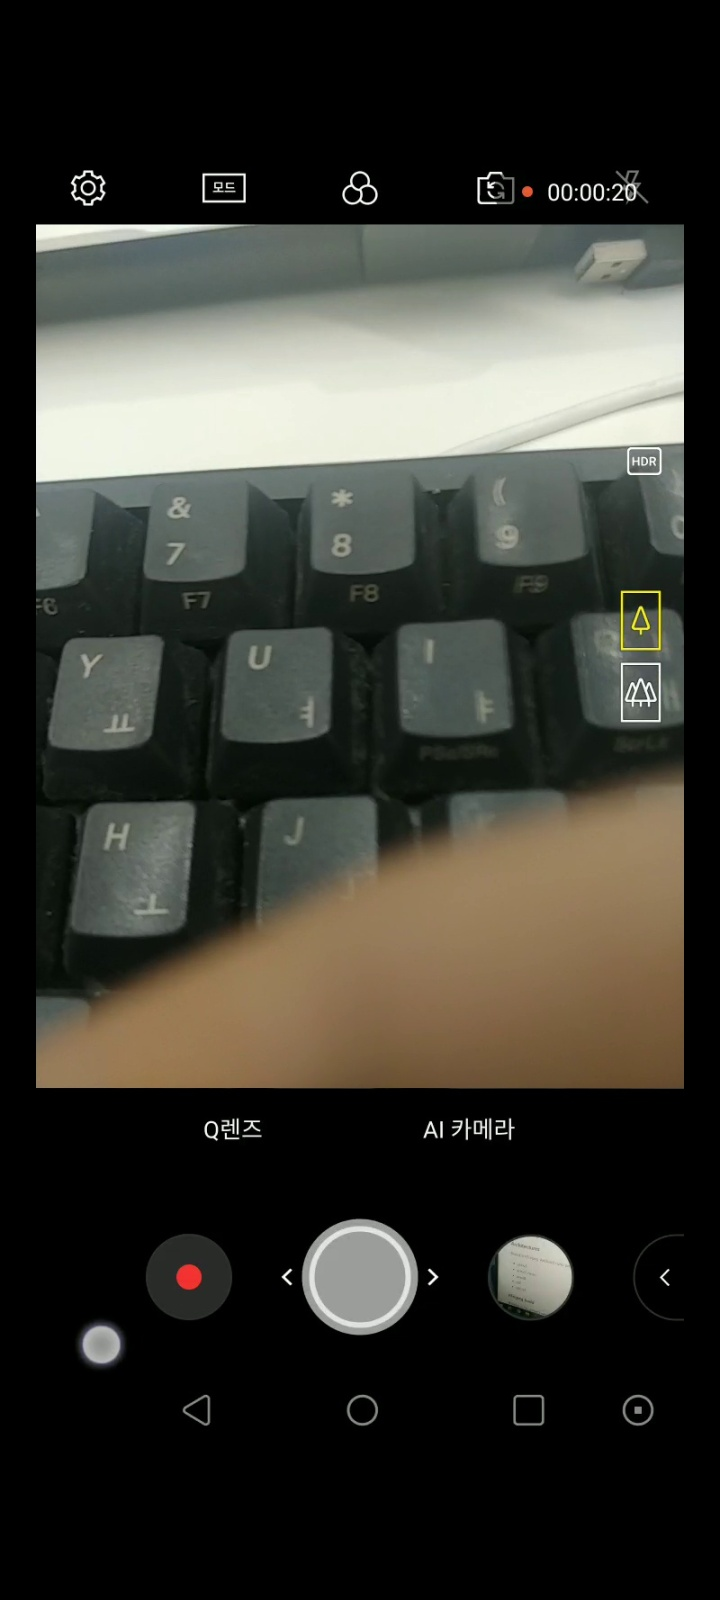Cursor: (80, 1324, 125, 1369)
